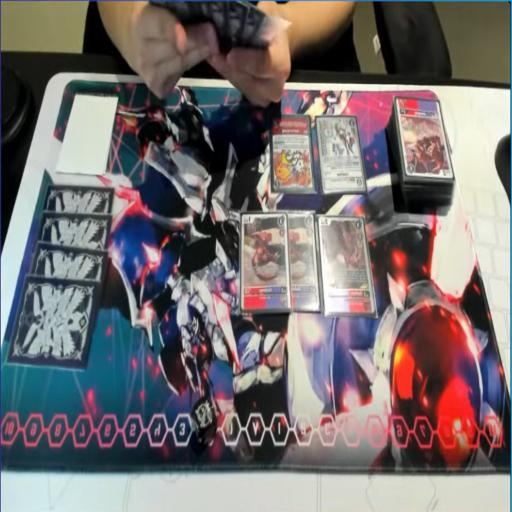card: (320, 212, 374, 323), (238, 207, 290, 314), (392, 96, 450, 183), (314, 114, 366, 204), (286, 211, 319, 311), (271, 115, 312, 195)
